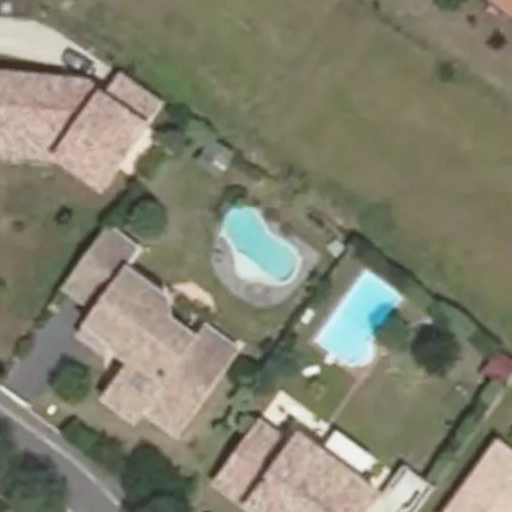pool: (314, 269, 403, 366), (219, 205, 300, 293)
